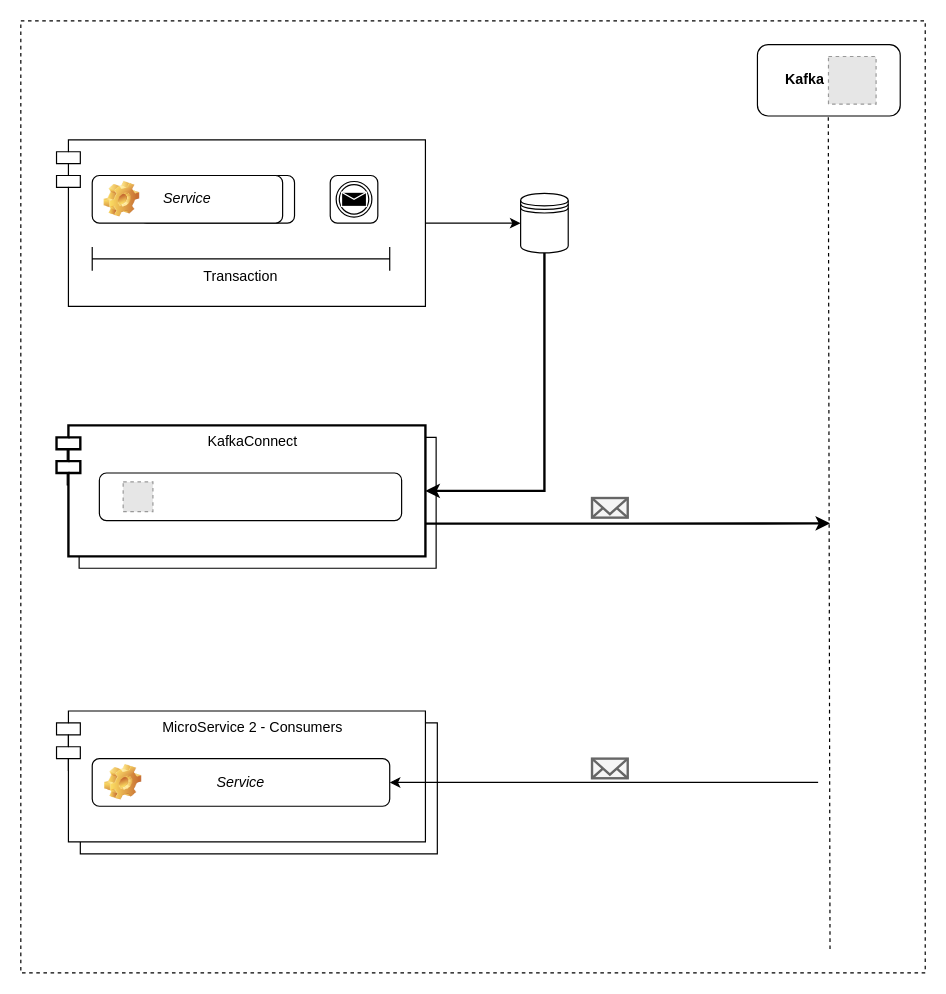
This 946x994 diagram has some shape labels left out. Grey dashed boxes stand in for pictures. The shapes that lost their labels are listed below. From the top down, each one's box as (x1, y1, x2, y2) in pixels, then its label:
(55, 139, 425, 306): MicroService 1 - Producer
(519, 192, 568, 253): Store
(98, 472, 402, 521): Jambo Connect
